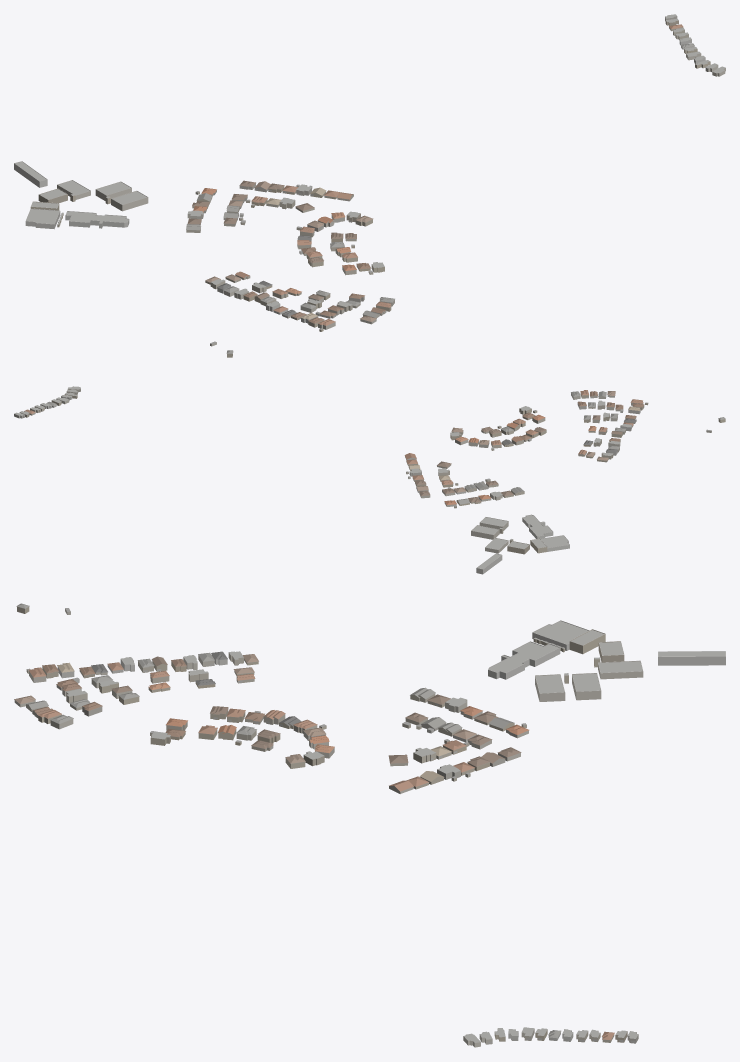
The model's file is buildings_r6_c5.glb.
3 views of the same model, one above another, from view 1: azimuth 30°, elevation 25°; view 2: azimuth 150°, elevation 25°; view 3: azimuth 270°, elevation 25° (orthographic). The views are drawn at different scales.
Visible parts, largest first — view 1: buildings_r6_c5; view 2: buildings_r6_c5; view 3: buildings_r6_c5.
Part boxes in pixels (left/top/right/bottom): buildings_r6_c5: left=14, top=14, right=725, bottom=357; buildings_r6_c5: left=14, top=386, right=725, bottom=574; buildings_r6_c5: left=14, top=603, right=725, bottom=1047.
Bounding box in the file's own units: 1136 × 42.28 × 764.
